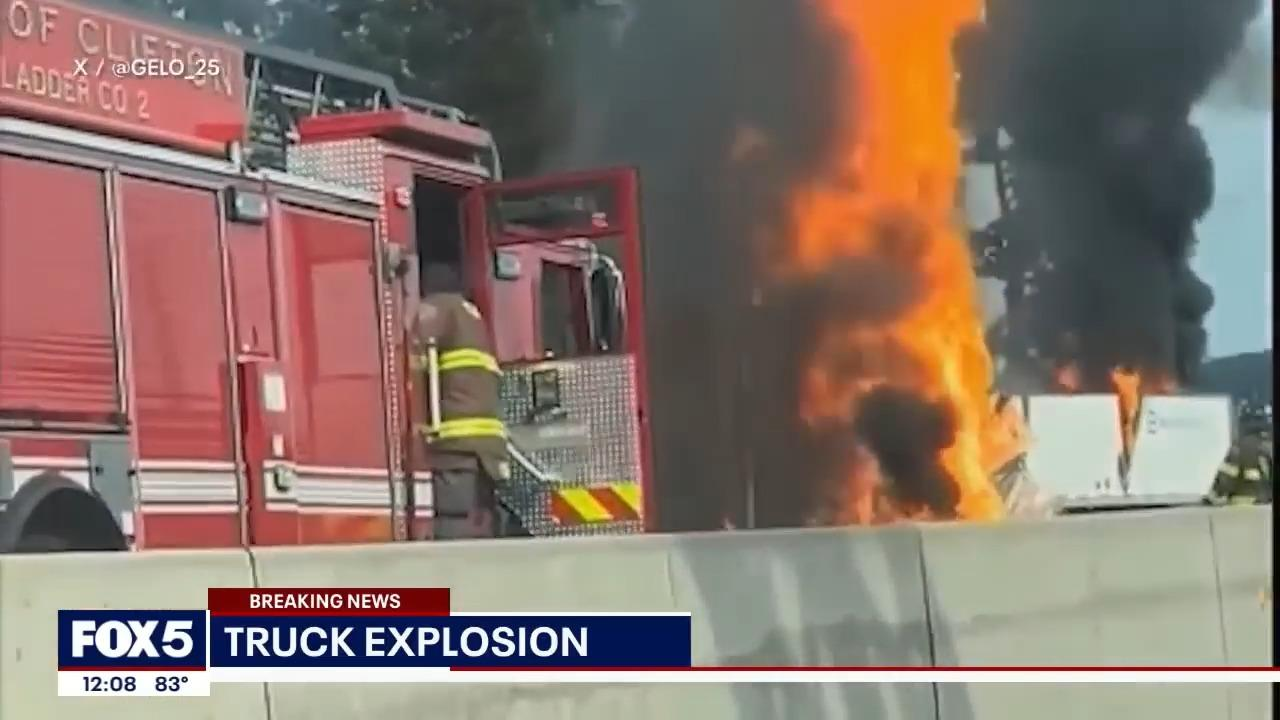fire: (820, 4, 1014, 528), (541, 481, 623, 522)
